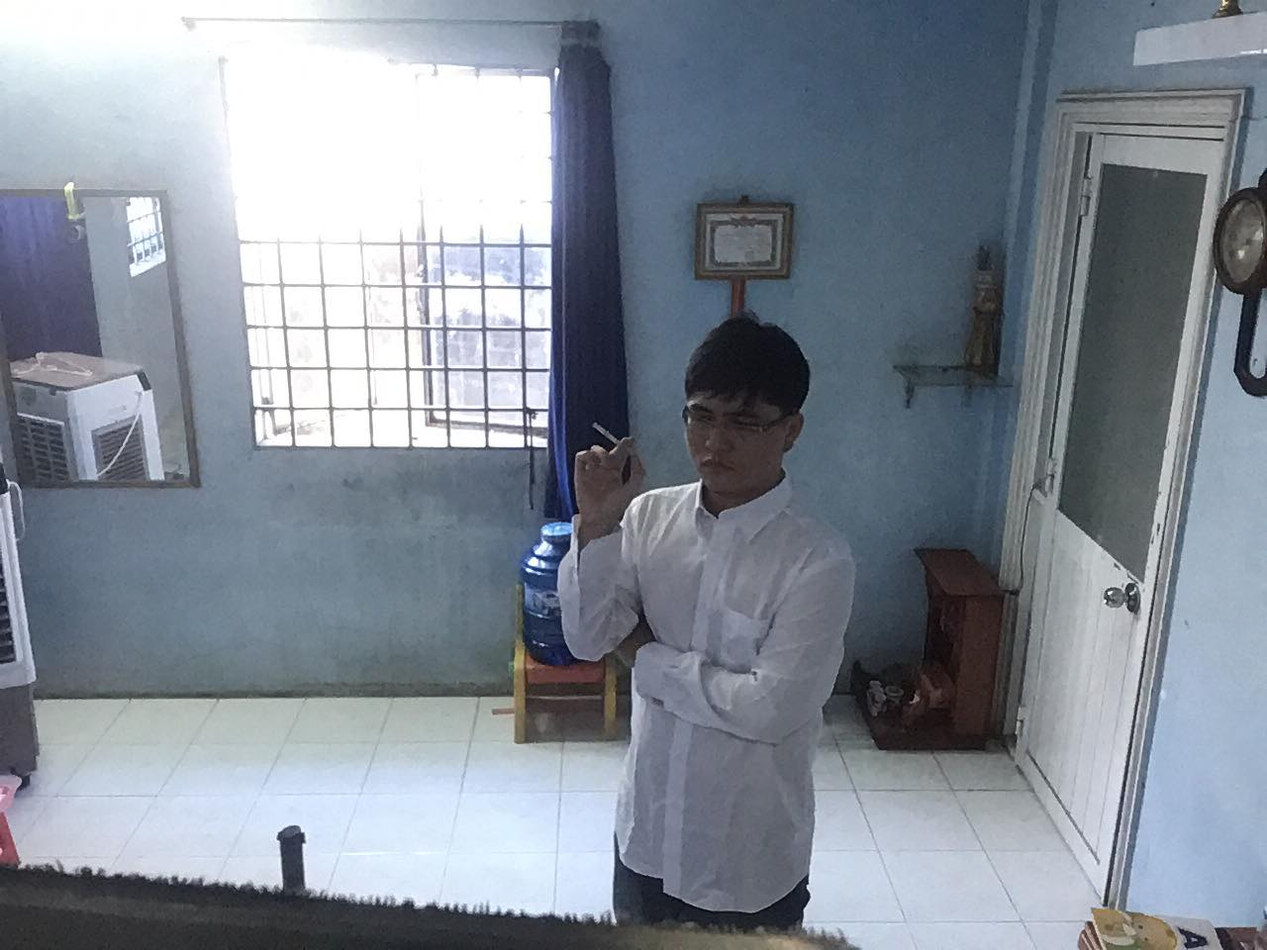cigarette: (587, 413, 626, 448)
person: (557, 314, 866, 950)
